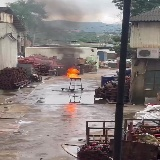fire: (65, 66, 81, 78)
